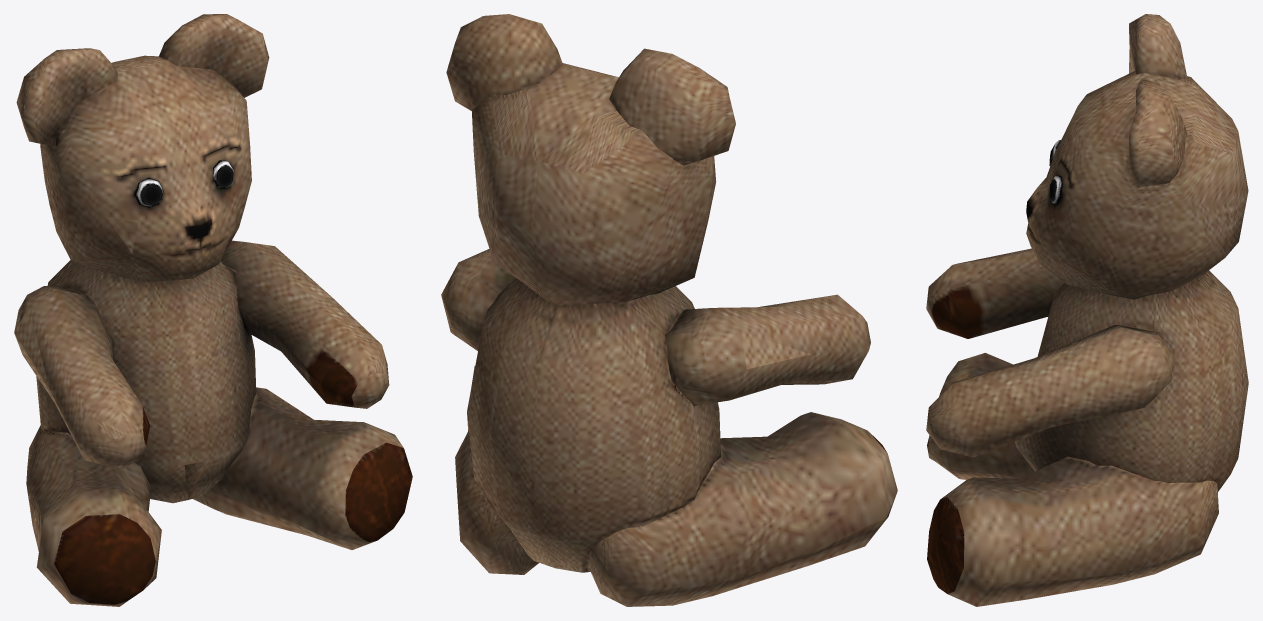
Rendered from Teddybear.obj.
3 renders of one model, left to right at view 1: azimuth 30°, elevation 25°; view 2: azimuth 150°, elevation 25°; view 3: azimuth 270°, elevation 25°, orthographic. The views are drawn at different scales.
Visible parts, largest first — view 1: teddybear; view 2: teddybear; view 3: teddybear.
Boxes of the visible parts, <box> form: teddybear: <box>14,14,412,606</box>; teddybear: <box>441,14,897,606</box>; teddybear: <box>926,14,1248,606</box>.
Size of the model in its own units: 34.61 by 43.39 by 26.09.
Materials: 1 (1 with a texture image).
